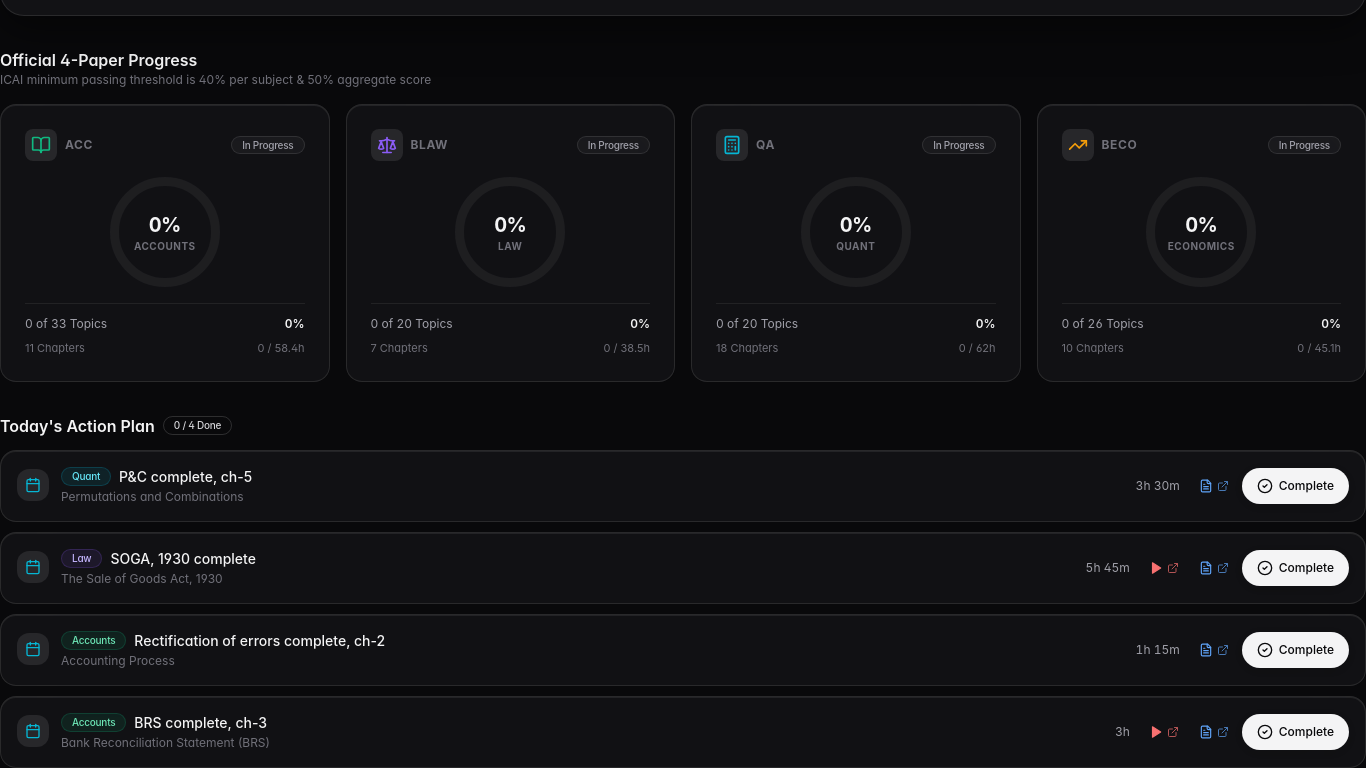
Test case: Today's Action Plan from Schedule Integration › completes a scheduled task from Today's Action Plan on 1-tap Complete
This screenshot has width=1366, height=768.
(page scrolled)
Expected: the text "0 / 4 Done" is shown, 163,416 -> 232,435
Click the button "Complete" next to "3h 30m" at x=1295, y=486, box 1242,468 -> 1349,504
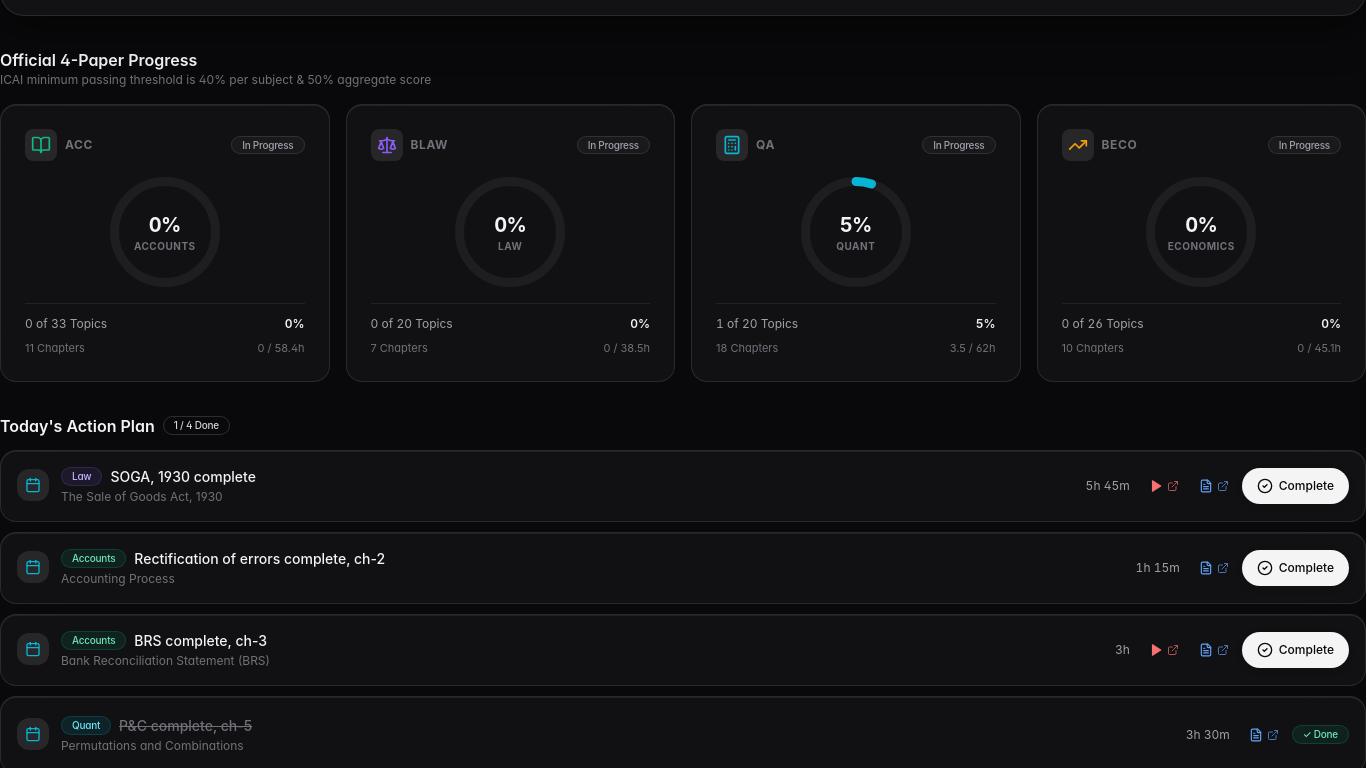
Expected: the text "1 / 4 Done" is shown, 163,416 -> 230,435
Expected: the text "✓ Done" is shown, 1292,725 -> 1349,744
